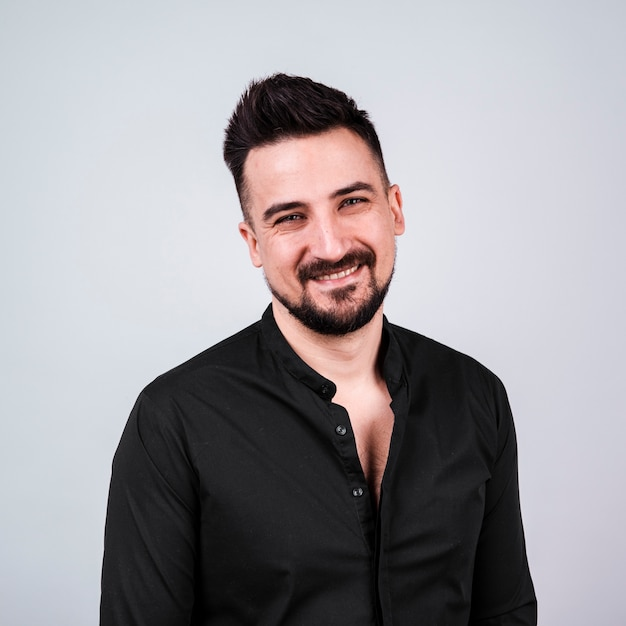young: (222, 75, 429, 344)
